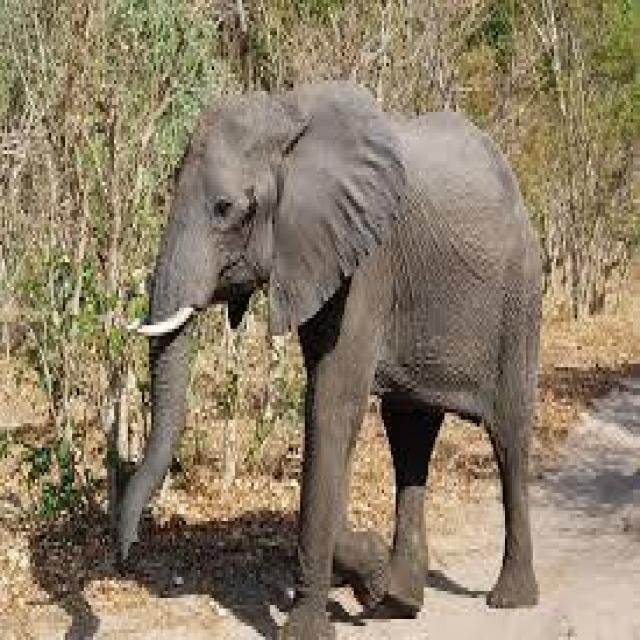Elephant: (144, 87, 538, 612)
